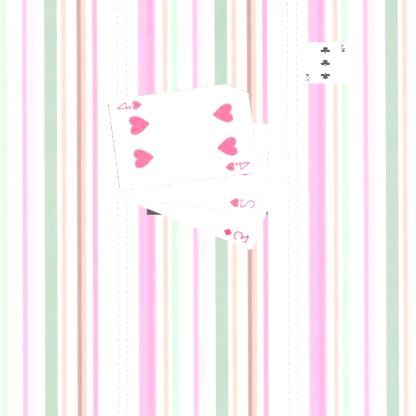2H: (228, 196, 258, 210)
3D: (222, 226, 253, 246)
4H: (116, 97, 146, 112), (224, 158, 253, 173)
